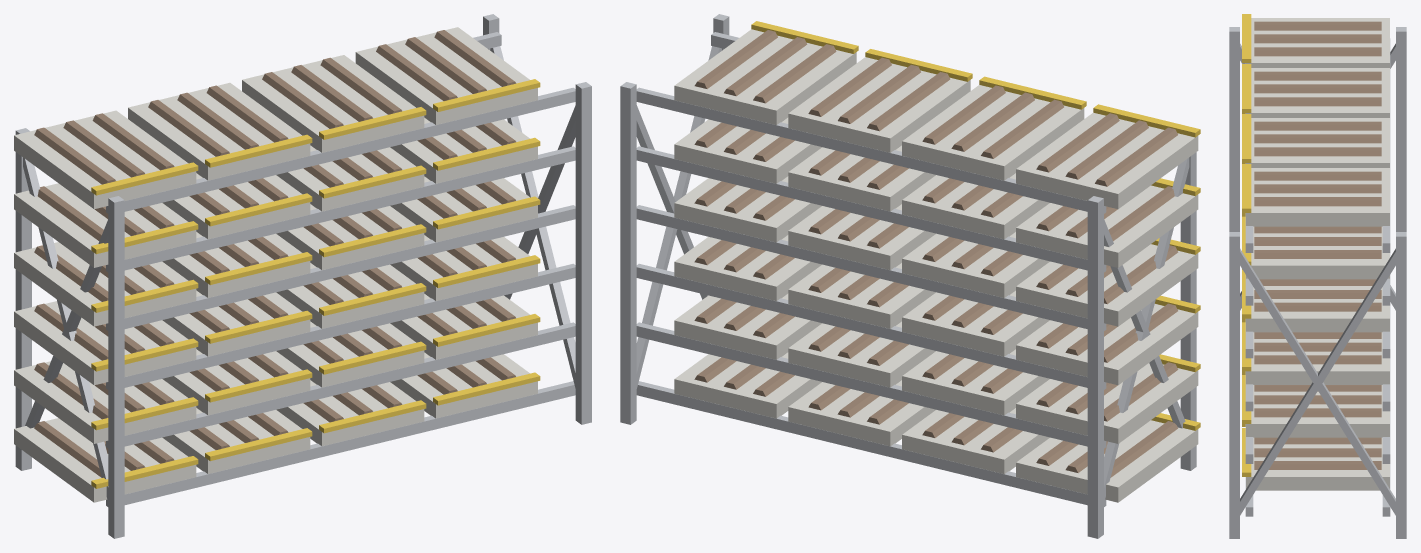
The model's file is ore-processing-and-haulage-plant-core-tray-rack-d58ec8a1.glb.
The picture shows the model from 3 angles, left to right: view 1: azimuth 30°, elevation 25°; view 2: azimuth 150°, elevation 25°; view 3: azimuth 270°, elevation 25°; orthographic projection. The views are drawn at different scales.
Parts seen in each view (by area): view 1: core-tray-rack; view 2: core-tray-rack; view 3: core-tray-rack.
Part boxes in pixels (x1=…): core-tray-rack: x1=14, y1=14, x2=591, y2=538; core-tray-rack: x1=620, y1=14, x2=1200, y2=538; core-tray-rack: x1=1229, y1=14, x2=1406, y2=538.
Bounding box in the file's own units: 3.35 × 2.26 × 1.17.
